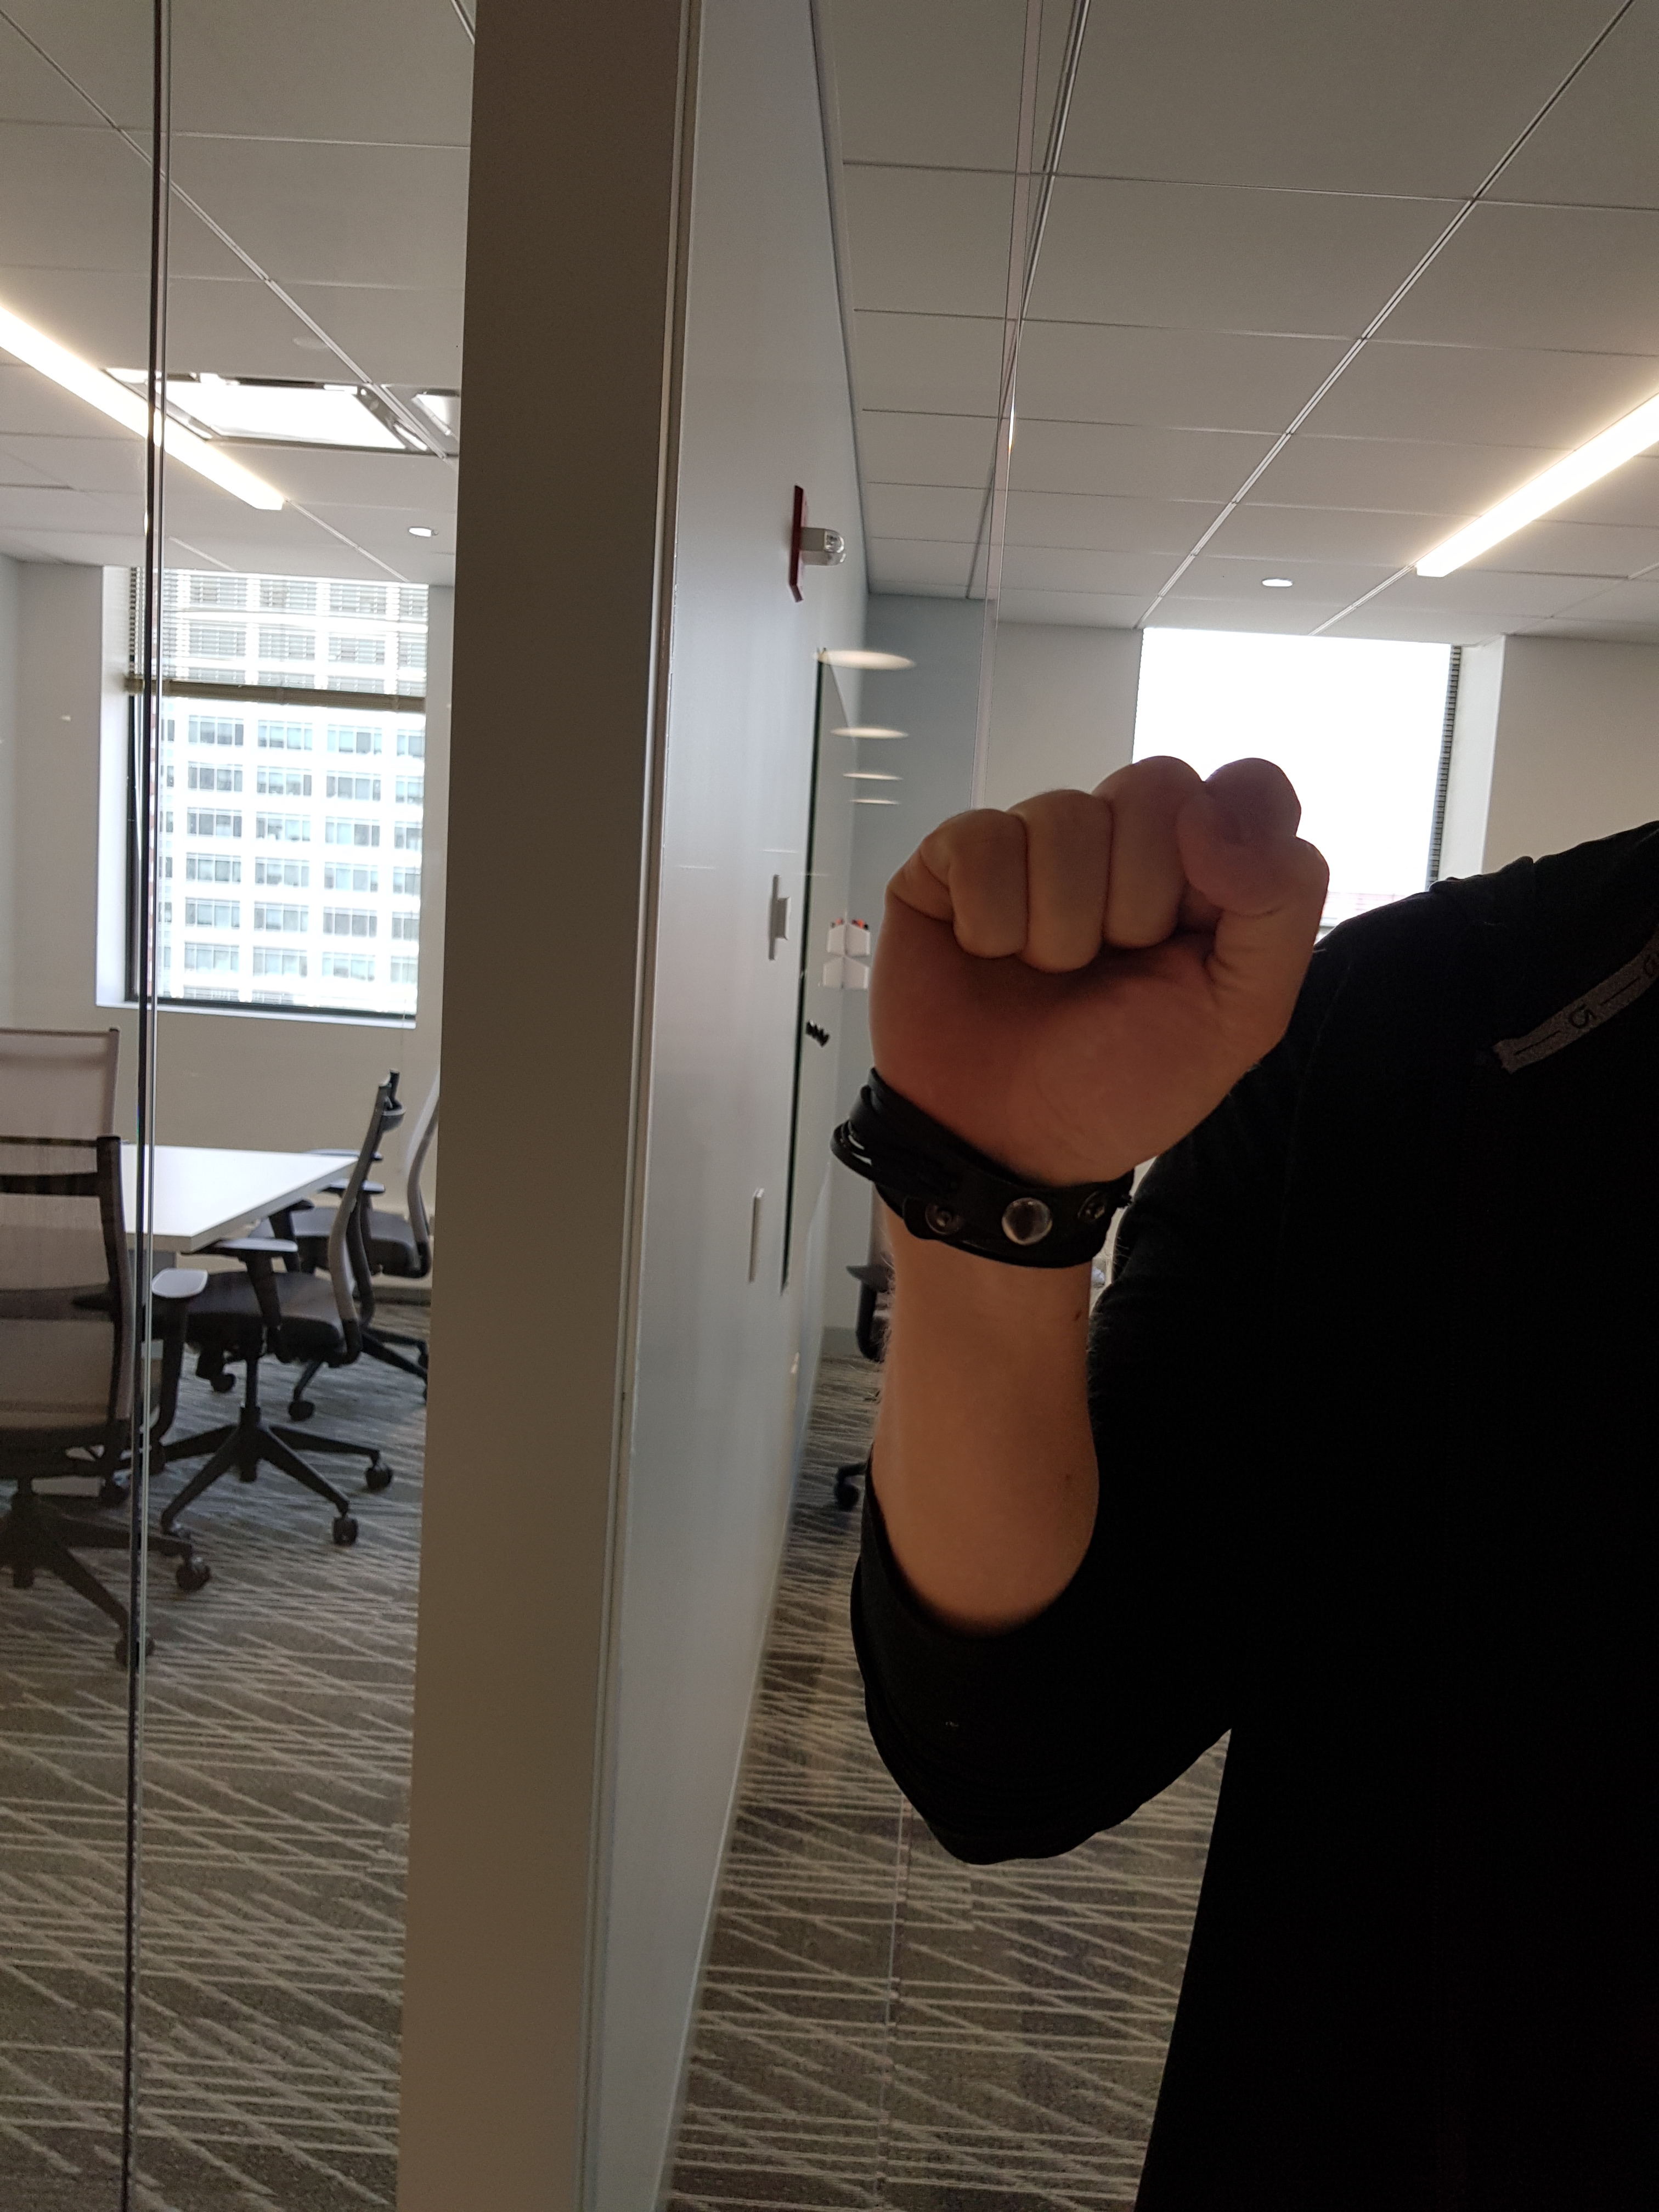s: (823, 721, 1351, 1242)
